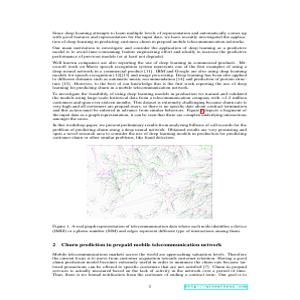image: (75, 141, 213, 223)
text: (49, 30, 250, 141), (51, 223, 249, 282)
